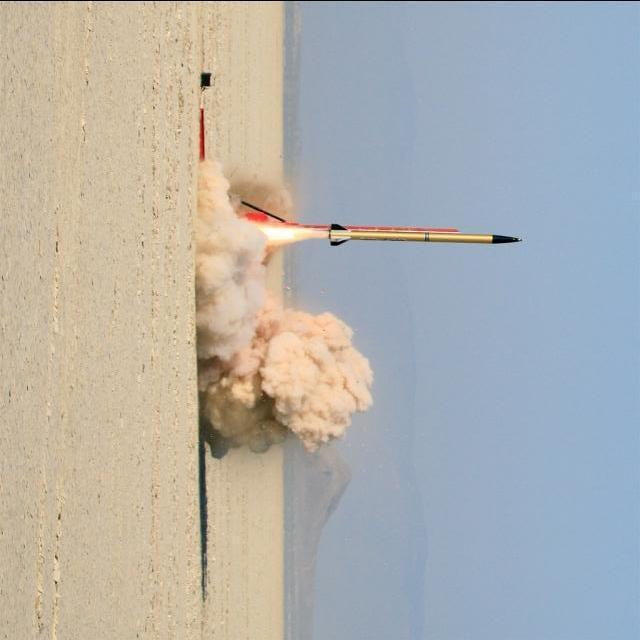missile: (316, 217, 526, 272)
